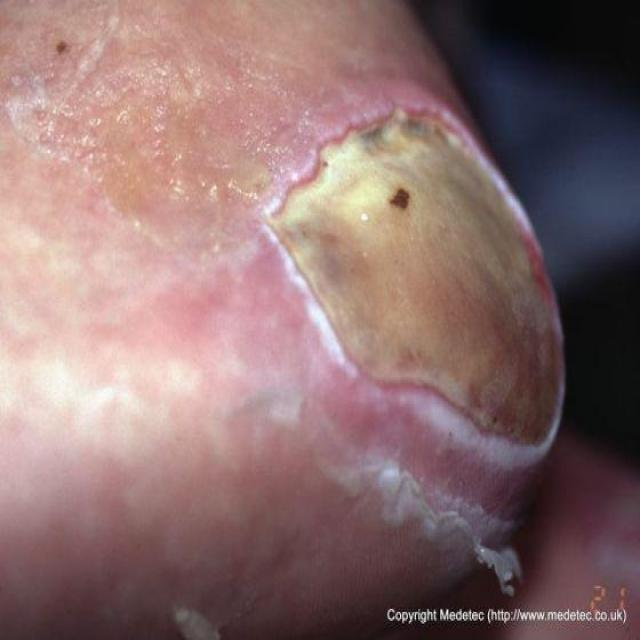Unstageable: (270, 110, 558, 441)
